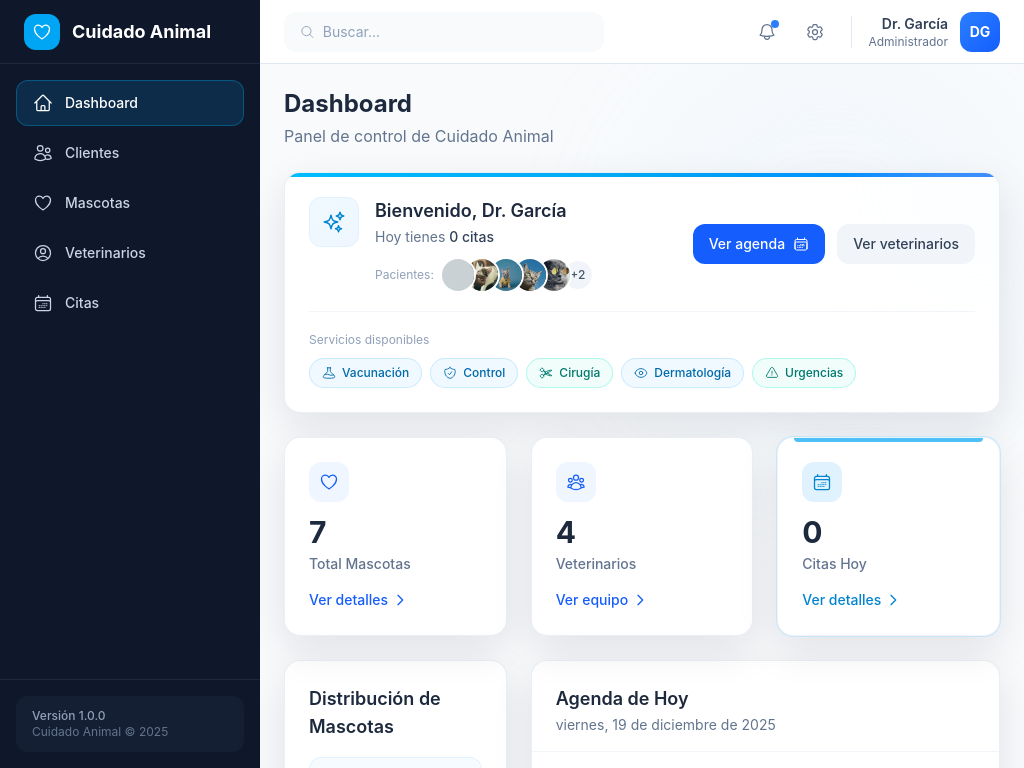
Test: AppRouter › Navegación entre rutas › navega a Clientes al hacer click en el link del Sidebar
Expected: the heading "Dashboard" is shown, [284,89,412,118]
Click en el link de Clientes del sidebar
Click the link "Clientes" at coordinates (76, 153), box [33,143,119,163]
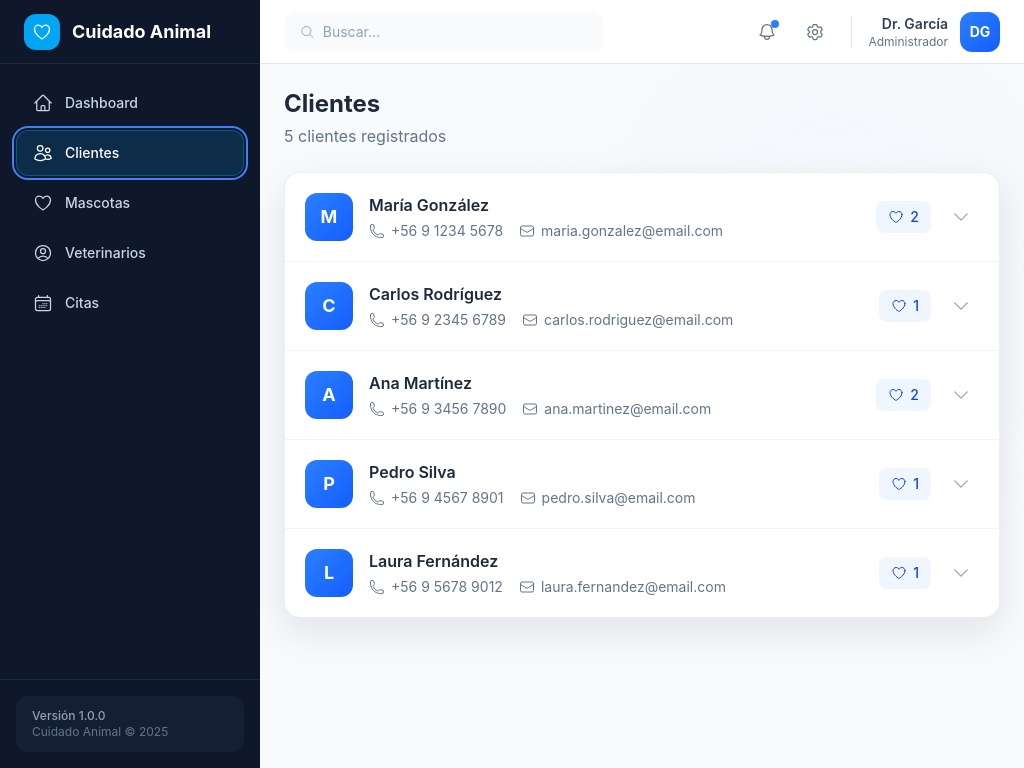
Result: the heading "Clientes" is shown at [284,89,380,118]
